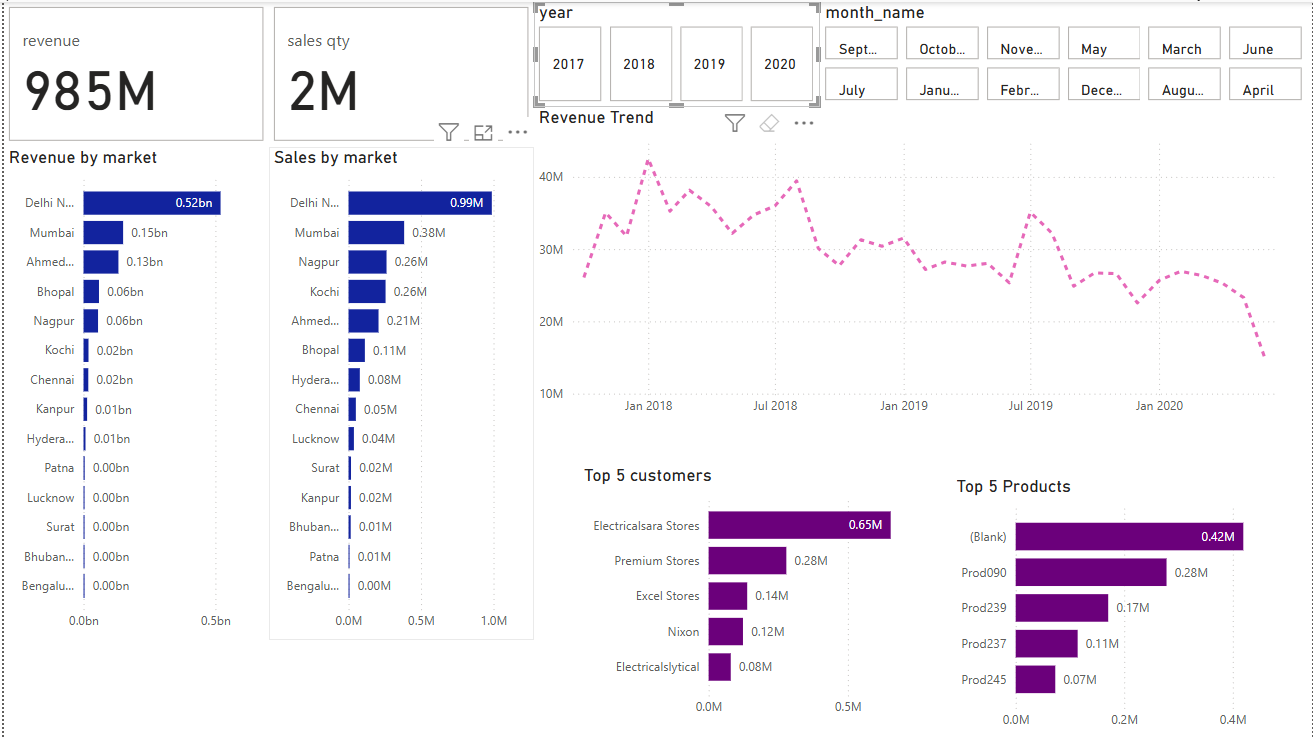

Layout of this report page (visuals, bound fields, positions):
{"tool":"powerbi","page":{"name":"report","canvas":[1280,720],"ordinal":0},"visuals":[{"type":"cardVisual","fields":{"Data":["basemeasures.revenue"]},"box":[0,0,259.2,141.8],"z":0},{"type":"cardVisual","fields":{"Data":["basemeasures.sales qty"]},"box":[259.2,0,259.2,141.8],"z":1000},{"type":"barChart","title":"Revenue by market","fields":{"Category":["sales markets.markets_name"],"Y":["basemeasures.revenue"]},"box":[0,141.8,259.2,481.8],"z":2000},{"type":"barChart","title":"Sales by market","fields":{"Y":["basemeasures.sales qty"],"Category":["sales markets.markets_name"]},"box":[259.2,141.8,259.2,481.8],"z":3000},{"type":"advancedSlicerVisual","fields":{"Values":["sales date.year"]},"box":[518.5,0,280,102.7],"z":4000},{"type":"advancedSlicerVisual","fields":{"Values":["sales date.month_name"]},"box":[798.5,0,481.8,102.7],"z":5000},{"type":"barChart","title":"Top 5 customers","fields":{"Category":["sales customers.custmer_name"],"Y":["basemeasures.sales qty"]},"box":[562.5,452.4,351,255.6],"z":6000},{"type":"barChart","title":"Top 5  Products","fields":{"Y":["basemeasures.sales qty"],"Category":["sales products.product_code"]},"box":[926.9,463.5,336.3,256.8],"z":7000},{"type":"lineChart","title":"Revenue Trend","fields":{"Y":["basemeasures.revenue"],"Category":["sales date.cy_date.Variation.Date Hierarchy.Year","sales date.cy_date.Variation.Date Hierarchy.Quarter","sales date.cy_date.Variation.Date Hierarchy.Month","sales date.cy_date.Variation.Date Hierarchy.Day"]},"box":[518.5,102.7,744.7,310.6],"z":8000}]}

Visuals, with their boxes in screenshot pixels (x1, y1, x2, y2), scaled from the page's 1280x720 canvas onto the 1313x737 screenshot:
cardVisual - basemeasures.revenue: 0 0 266 145
cardVisual - basemeasures.sales qty: 266 0 532 145
"Revenue by market" barChart: 0 145 266 638
"Sales by market" barChart: 266 145 532 638
advancedSlicerVisual - sales date.year: 532 0 819 105
advancedSlicerVisual - sales date.month_name: 819 0 1312 105
"Top 5 customers" barChart: 577 463 937 725
"Top 5  Products" barChart: 951 474 1296 736
"Revenue Trend" lineChart: 532 105 1296 423
